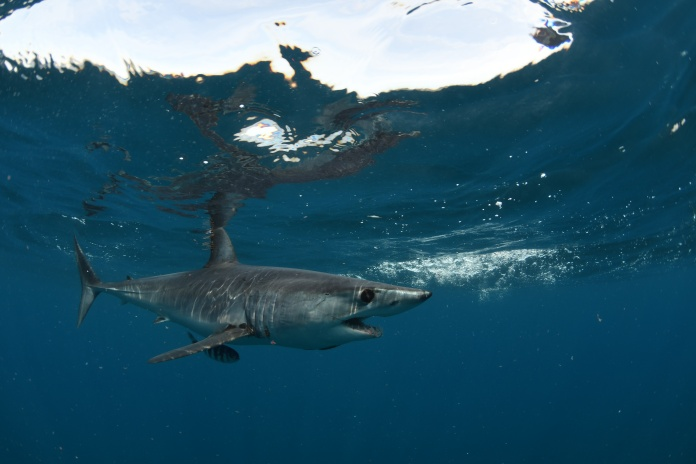Mako: (58, 220, 440, 380)
